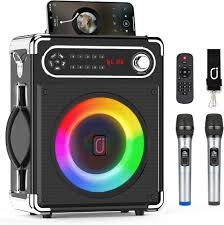speaker: (3, 33, 168, 215), (172, 112, 224, 209)
